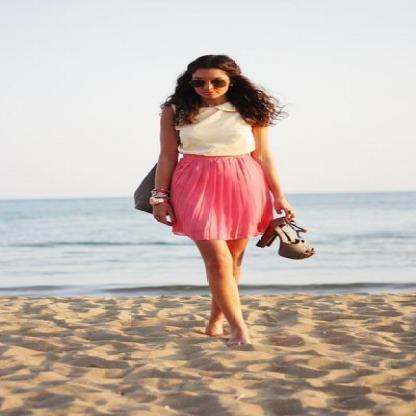bag: (134, 178, 155, 202)
shirt: (176, 108, 254, 155)
shoe: (256, 211, 314, 257)
skirt: (166, 152, 296, 240)
